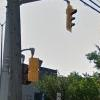Traffic light: (54, 2, 77, 42)
